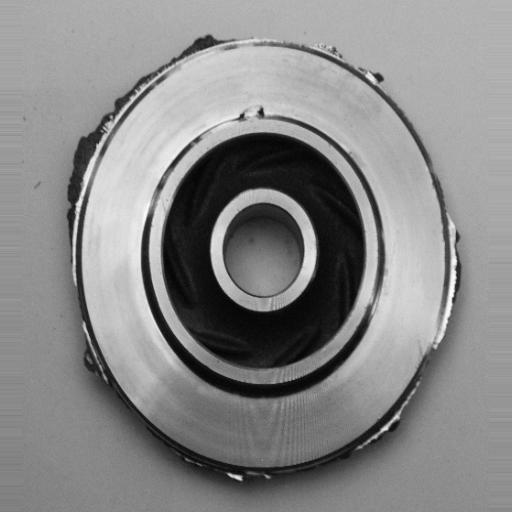casting_with_burr: (64, 30, 464, 488)
crack: (224, 96, 278, 128)
